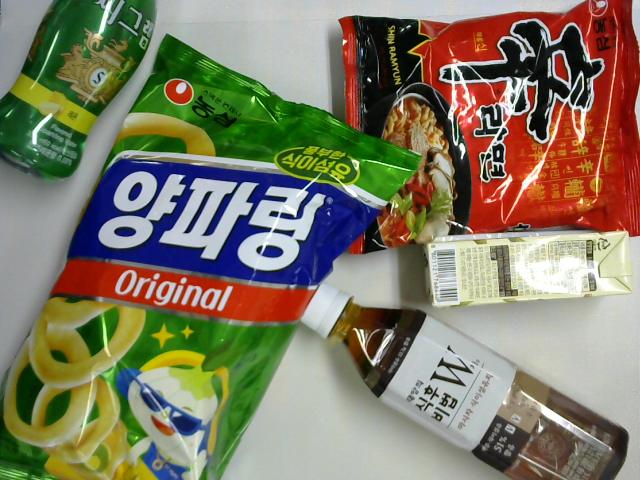99.89_Soymilk: (421, 227, 637, 308)
Oninon_Ring: (1, 30, 424, 480)
Post-meal_recipe_W_tea_500ml: (299, 282, 631, 480)
Seagram_Lemon_Carbonated_Water: (1, 1, 159, 184)
Sinramen: (337, 1, 640, 257)
